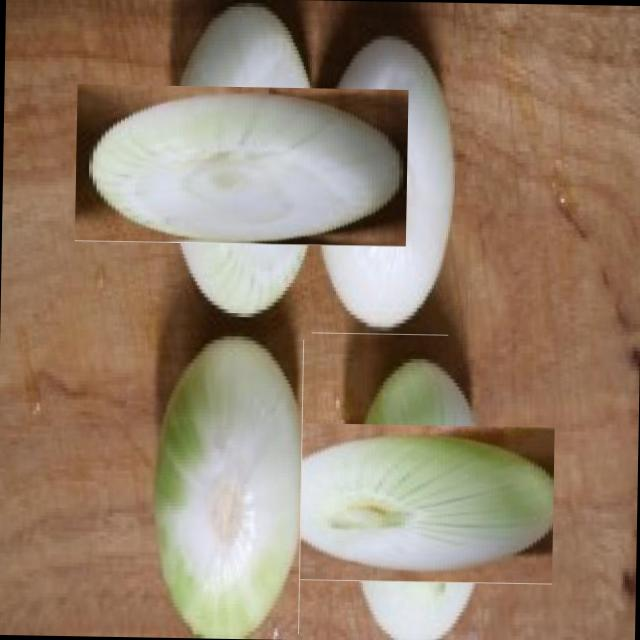Onion: (117, 40, 366, 289), (142, 338, 304, 634), (312, 396, 528, 612), (312, 26, 453, 335)
